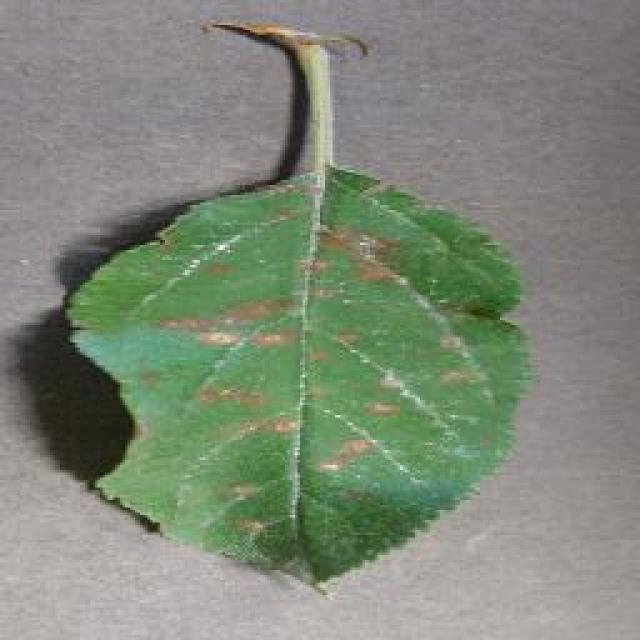apple scab disease: (60, 15, 535, 595)
